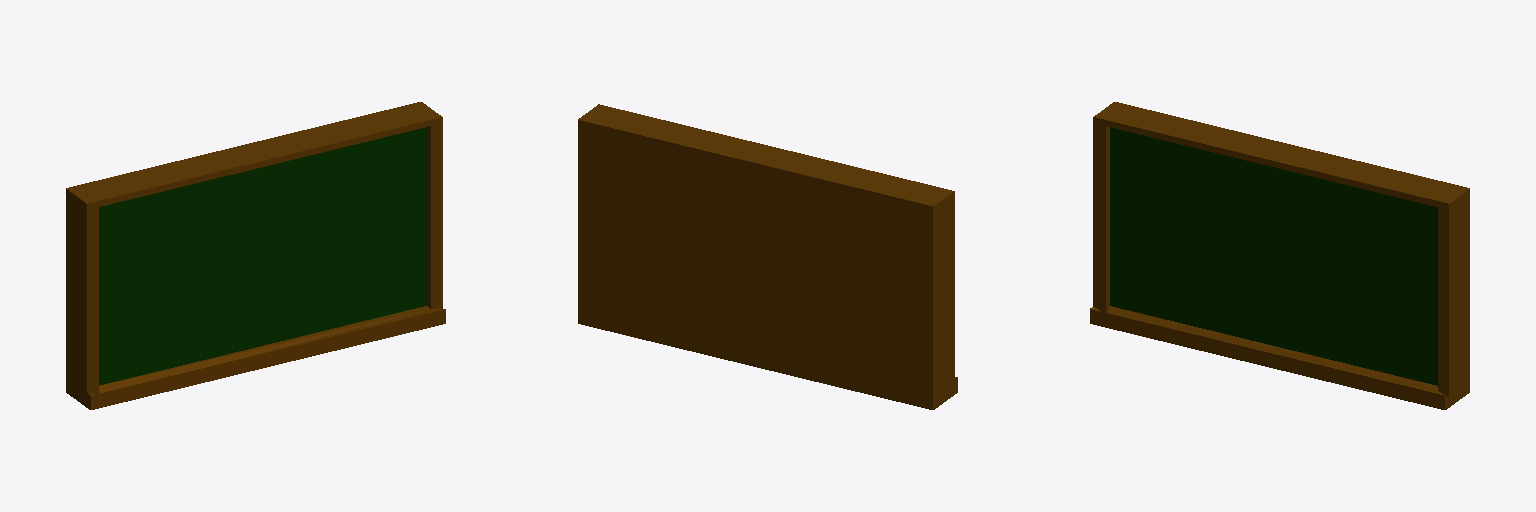
Rendered from quadro.obj.
3 views of the same model, side by side, from view 1: azimuth 30°, elevation 25°; view 2: azimuth 150°, elevation 25°; view 3: azimuth 330°, elevation 25° (orthographic).
Parts seen in each view (by area): view 1: Cube; view 2: Cube; view 3: Cube.
Boxes of the visible parts, x1,y1,x2,y2 form: Cube: [66, 102, 445, 409]; Cube: [578, 104, 957, 409]; Cube: [1090, 102, 1469, 409].
Size of the model in its own units: 37.33 by 20.45 by 4.53.